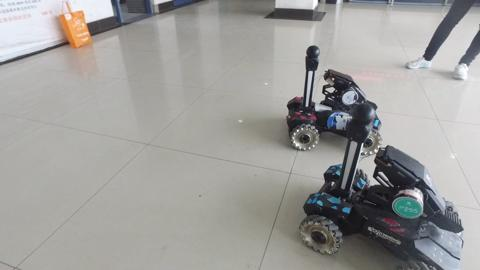chariot: (280, 104, 469, 270), (277, 43, 393, 159)
